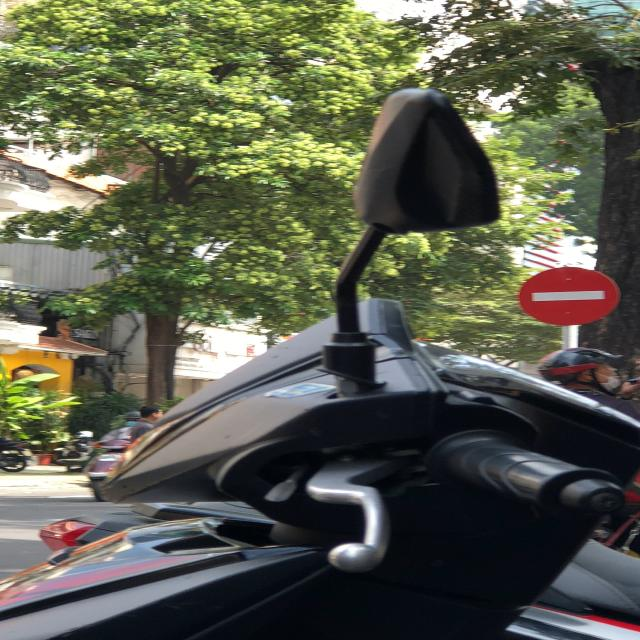Bien bao cam di nguoc chieu: (516, 260, 629, 331)
